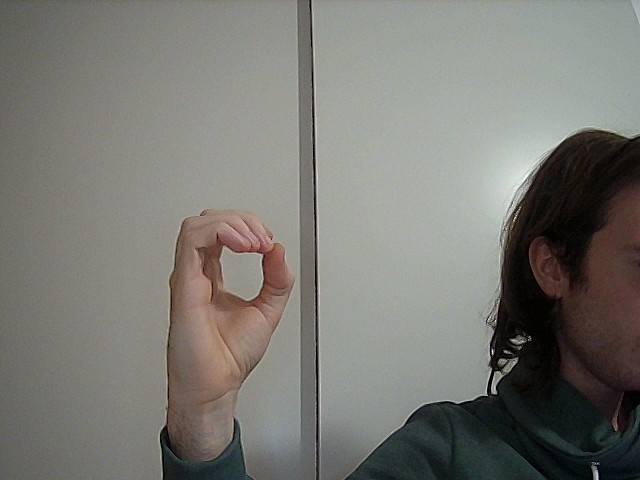o: (162, 202, 301, 385)
